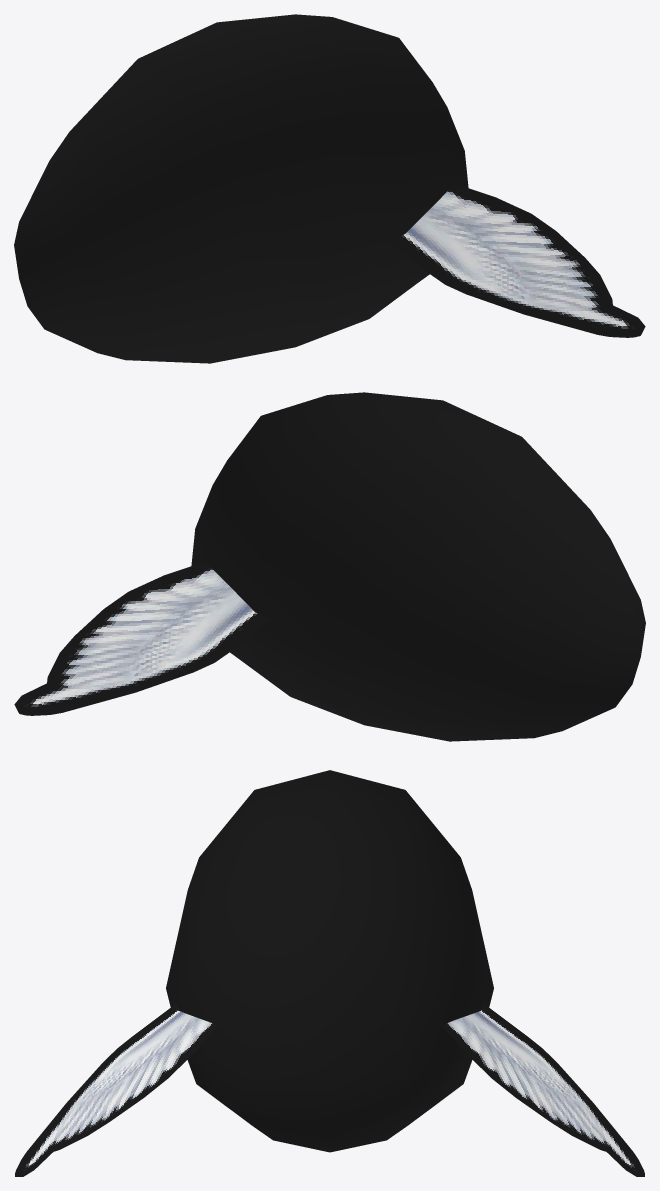
File: ps2_save-icons_segaages2500seriesvol3-fantasyzone.glb
3 views of the same model, one above another, from view 1: azimuth 30°, elevation 25°; view 2: azimuth 150°, elevation 25°; view 3: azimuth 270°, elevation 25° (orthographic). The views are drawn at different scales.
Parts seen in each view (by area): view 1: OPA.ICO; view 2: OPA.ICO; view 3: OPA.ICO.
Boxes of the visible parts, <box> form: OPA.ICO: <box>14,14,645,363</box>; OPA.ICO: <box>14,392,645,741</box>; OPA.ICO: <box>15,770,644,1176</box>.
Bounding box in the file's own units: 4.07 × 2.5 × 4.5.
1 material, 1 textured.
